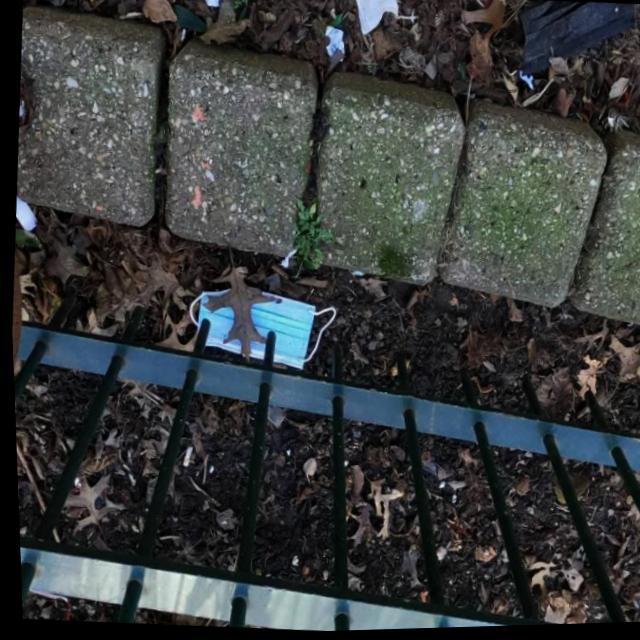Mask: (180, 279, 338, 377), (510, 0, 640, 85)
Paper: (344, 0, 398, 42)
